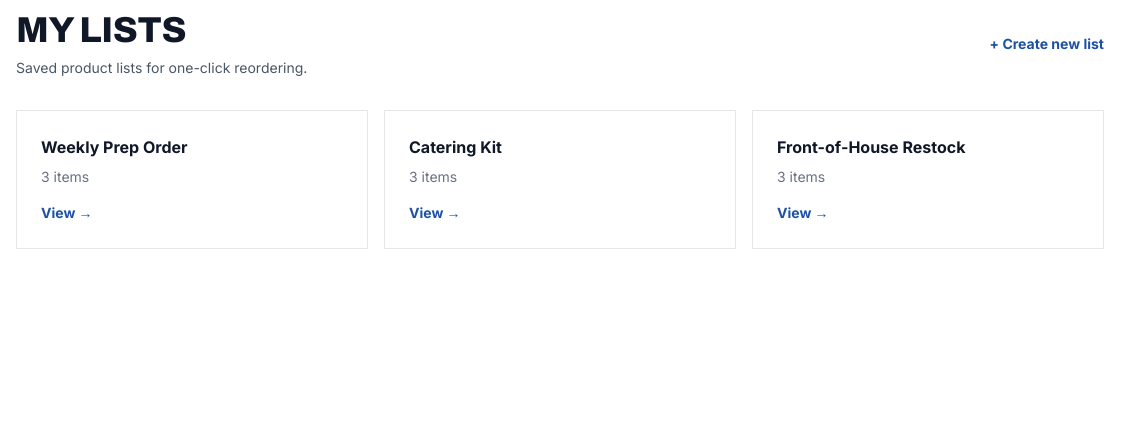
it: ListsPage › submits the create form on Enter as well as the Create button
Click the button "+ Create new list" at [1047, 44], box [990,34,1104,54]
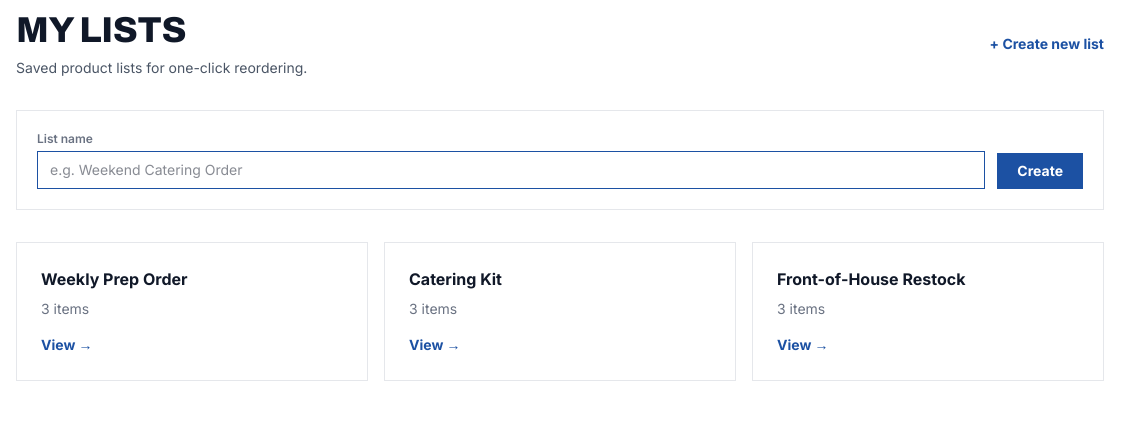
Type "Staff Meal Prep" into the field with placeholder "e.g. Weekend Catering Order" at [511, 170], box [37,151,985,189]
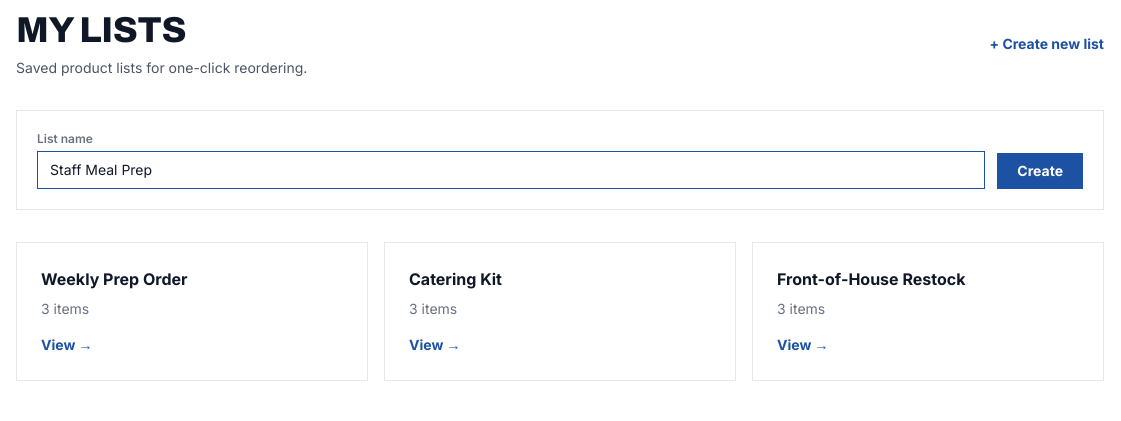
Press Enter in the field with placeholder "e.g. Weekend Catering Order", box [37,151,985,189]
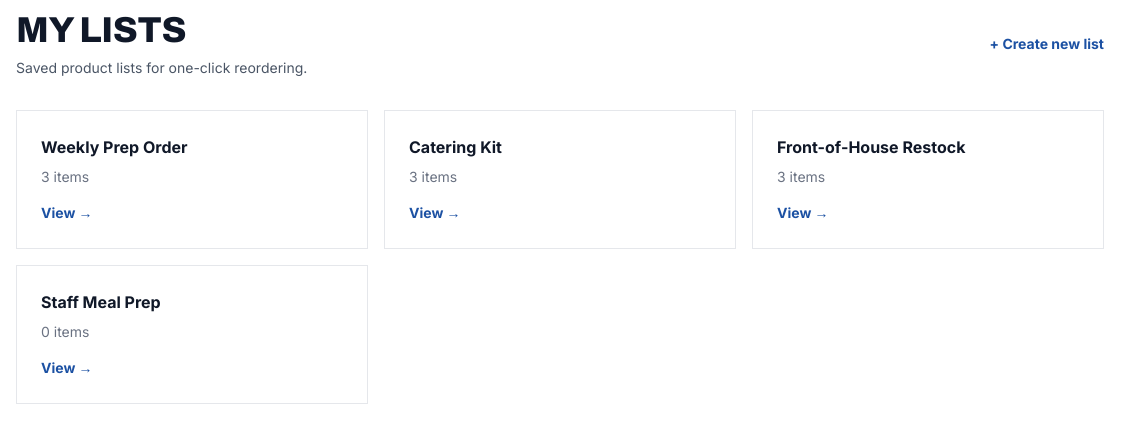
Expected: the heading "Staff Meal Prep" is shown, [41,292,161,312]
